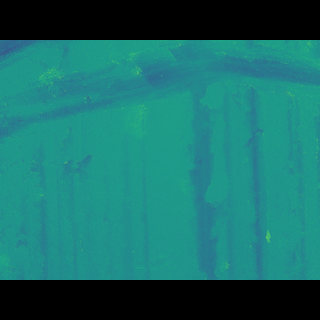Loch: (0, 68, 320, 155)
